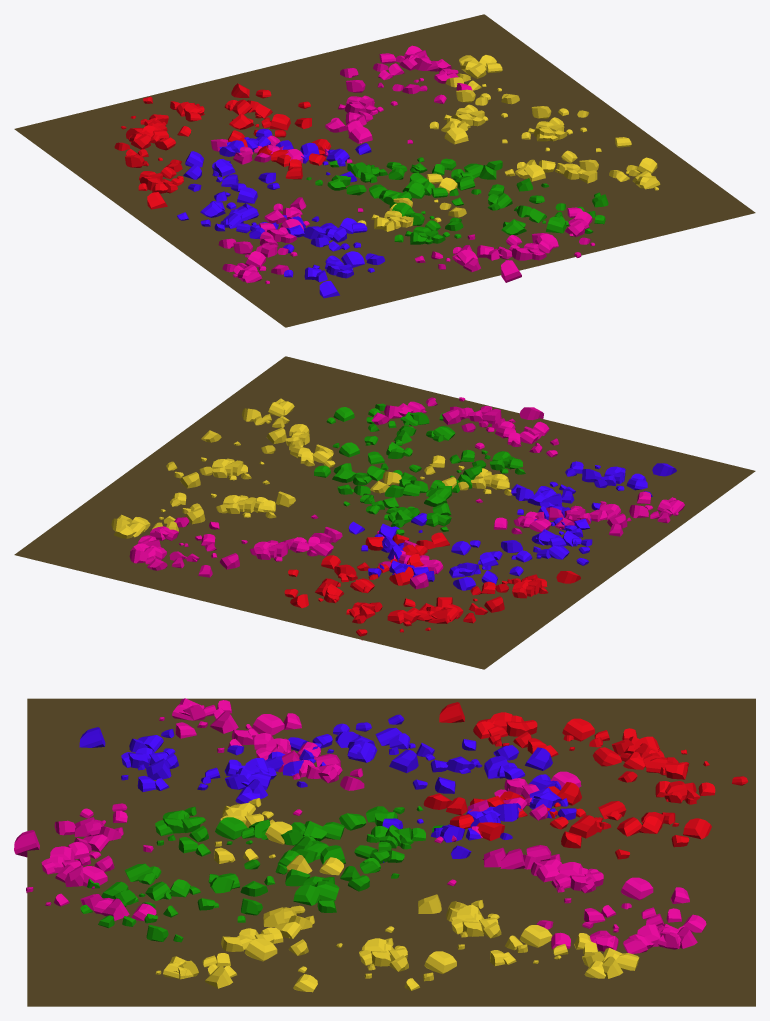
The model's file is Minemix.fbx.
3 views of the same model, one above another, from view 1: azimuth 30°, elevation 25°; view 2: azimuth 150°, elevation 25°; view 3: azimuth 270°, elevation 25° (orthographic). The views are drawn at different scales.
Parts seen in each view (by area): view 1: Plane; view 2: Plane; view 3: Plane, Cube.003 Duplicator|Cube.003 - copy|Dupli|103, Cube Duplicator|Cube - copy|Dupli|133, Cube.003 Duplicator|Cube.003 - copy|Dupli|14, Cube.003 Duplicator|Cube.003 - copy|Dupli|91, Cube.004 Duplicator|Cube.004 - copy|Dupli|33, Cube.001 Duplicator|Cube.001 - copy|Dupli|12, Cube Duplicator|Cube - copy|Dupli|74.
Part boxes in pixels (x1=…): Plane: x1=14, y1=14, x2=755, y2=327; Plane: x1=14, y1=356, x2=755, y2=669; Plane: x1=27, y1=698, x2=755, y2=1006; Cube.003 Duplicator|Cube.003 - copy|Dupli|103: x1=244, y1=938, x2=277, y2=961; Cube Duplicator|Cube - copy|Dupli|133: x1=621, y1=877, x2=653, y2=900; Cube.003 Duplicator|Cube.003 - copy|Dupli|14: x1=424, y1=951, x2=456, y2=973; Cube.003 Duplicator|Cube.003 - copy|Dupli|91: x1=519, y1=925, x2=552, y2=947; Cube.004 Duplicator|Cube.004 - copy|Dupli|33: x1=562, y1=718, x2=594, y2=741; Cube.001 Duplicator|Cube.001 - copy|Dupli|12: x1=215, y1=817, x2=247, y2=840; Cube Duplicator|Cube - copy|Dupli|74: x1=252, y1=714, x2=284, y2=735.
Bounding box in the file's own units: 1000 × 1018 × 45.81.
